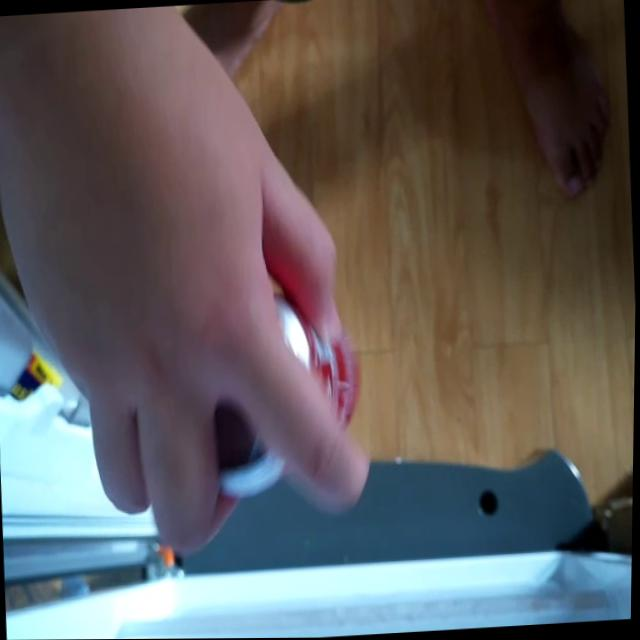coke: (195, 253, 372, 495)
